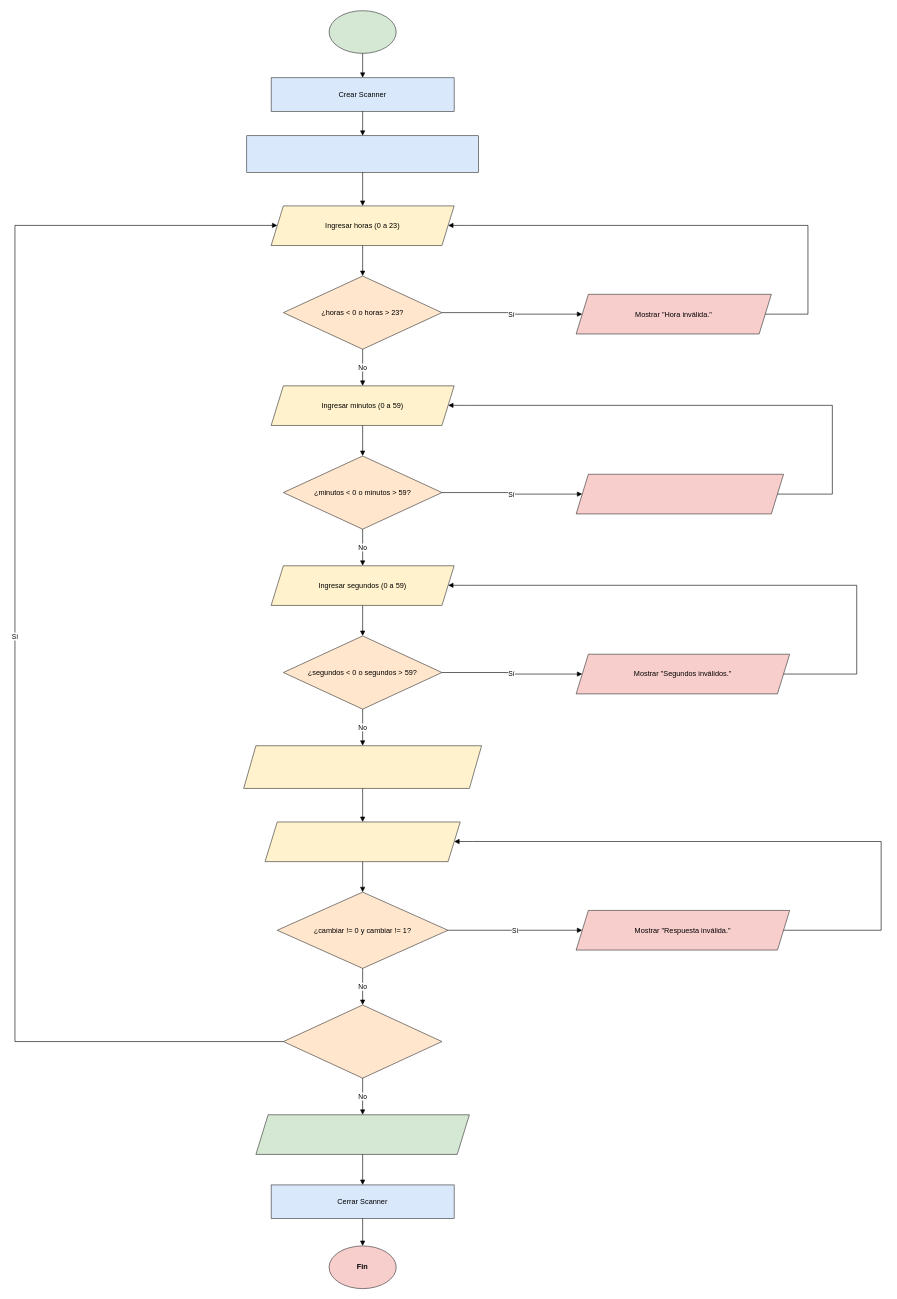
This 897x1299 diagram has some shape labels left out. Here are the shapes that lost their labels. From the top down, the centre of each, then its label:
pixel 362 31: Inicio
pixel 362 153: Declarar horas, minutos, segundos y cambiar
pixel 680 494: Mostrar "Minutos inválidos."
pixel 362 766: Mostrar hora registrada en formato HH:MM:SS
pixel 362 841: Ingresar cambiar (1 Sí, 0 No)
pixel 362 1041: ¿cambiar == 1?
pixel 362 1134: Mostrar "Programa finalizado."
